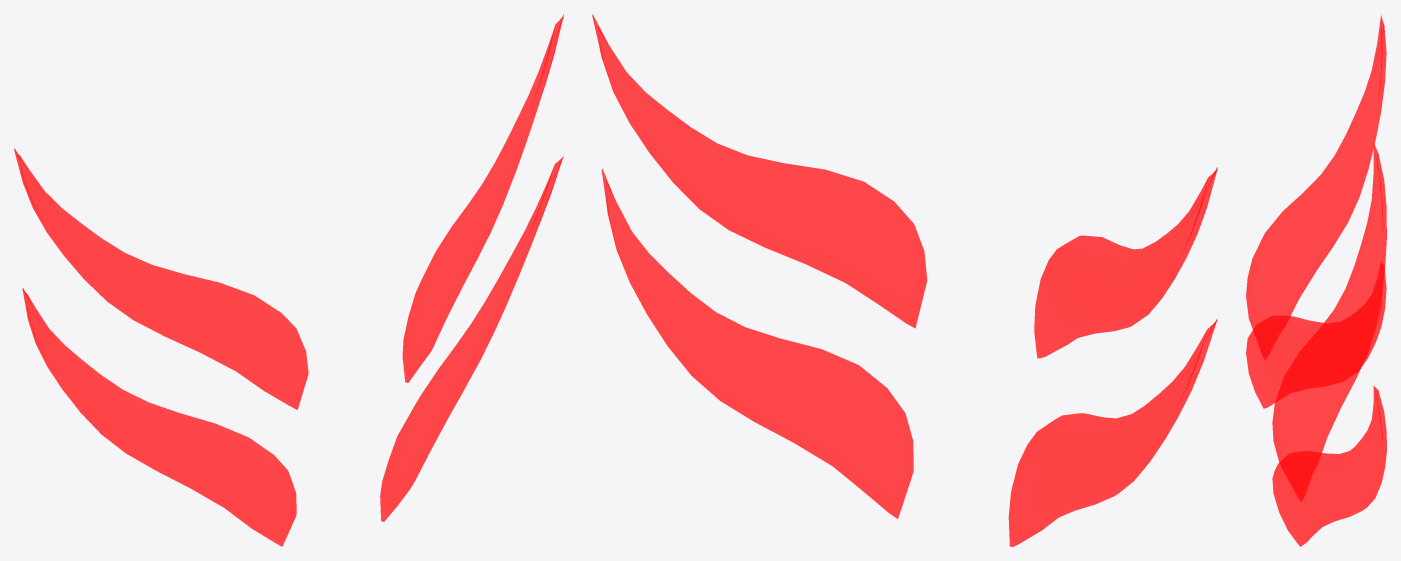
Rendered from Oppression Eyes.fbx.
3 views of the same model, side by side, from view 1: azimuth 30°, elevation 25°; view 2: azimuth 150°, elevation 25°; view 3: azimuth 270°, elevation 25° (orthographic). The views are drawn at different scales.
Visible parts, largest first — view 1: Oppression Eyes Unity; view 2: Oppression Eyes Unity; view 3: Oppression Eyes Unity.
Boxes of the visible parts, <box> form: Oppression Eyes Unity: <box>14,14,563,546</box>; Oppression Eyes Unity: <box>592,14,1217,546</box>; Oppression Eyes Unity: <box>1246,14,1386,546</box>.
Size of the model in its own units: 1.8 by 1.32 by 0.4347.
